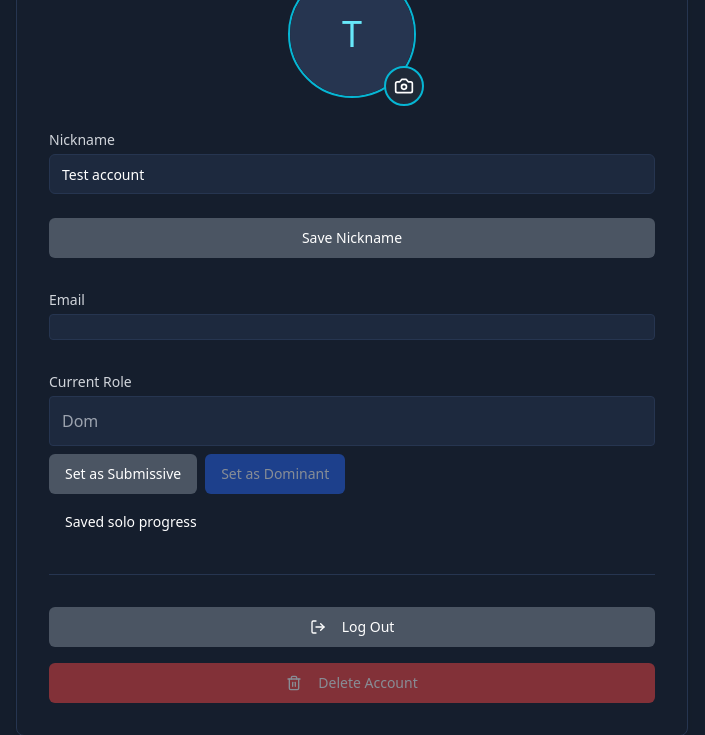
Scenario: actual Profile role chooser › describes an empty Fresh destination without converting values, and cancellation sends nothing
Later steps or results of the test are not shown.
(page scrolled)
Click the button "Set as Submissive" at x=123, y=474, box [49,454,197,494]
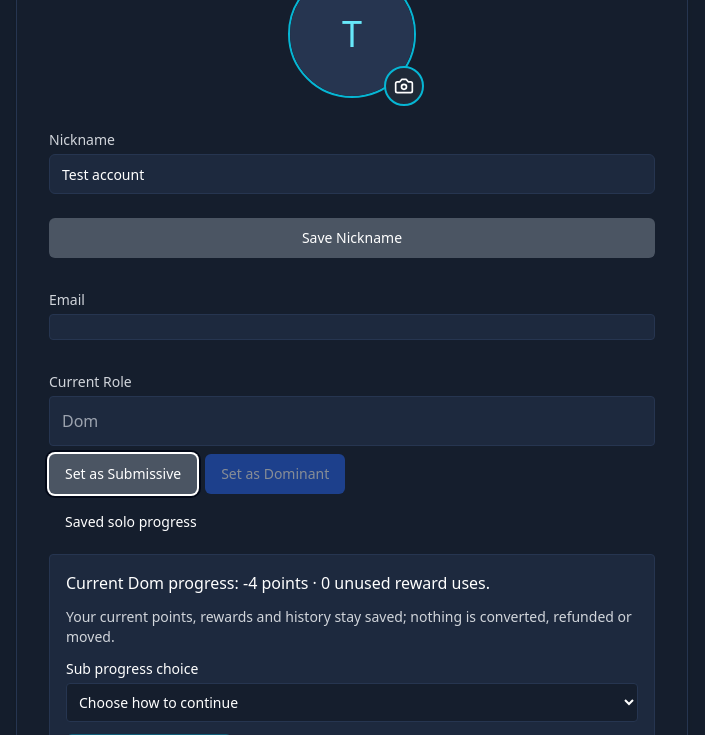
Result: the text "Current Dom progress: -4 points · 0 unused reward uses." is shown at [66,572,490,594]
Select "Start this role fresh" in the dropdown labelled "Sub progress choice" at x=352, y=702, box [66,683,638,722]
(page scrolled)
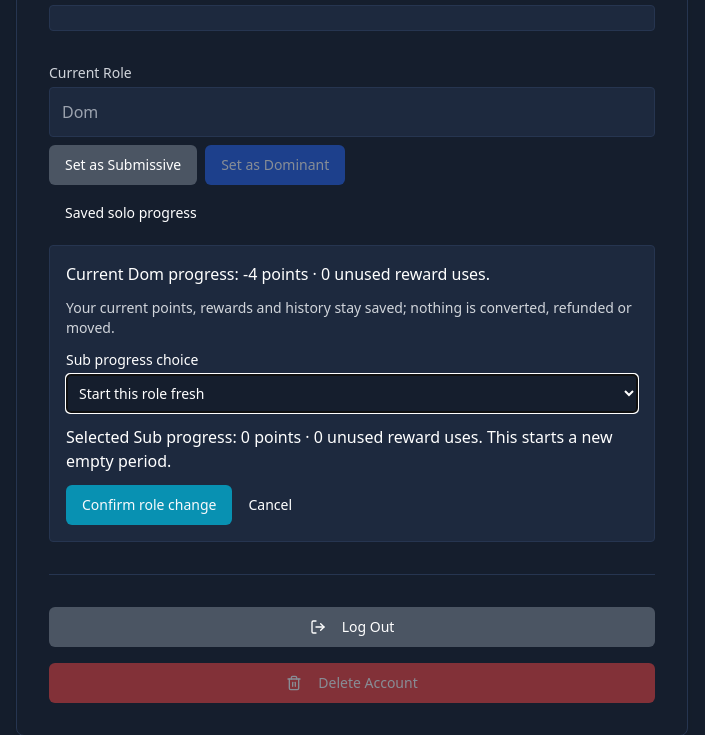
Result: the text "nothing is converted, refunded or moved" is shown at [66,298,632,337]
Result: the text "Selected Sub progress: 0 points · 0 unused reward uses. This starts a new empty period." is shown at [66,425,638,473]
